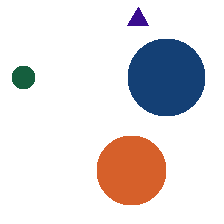circle: (128, 39, 204, 115), (97, 136, 165, 204), (12, 66, 34, 88)
triangle: (127, 7, 148, 25)
